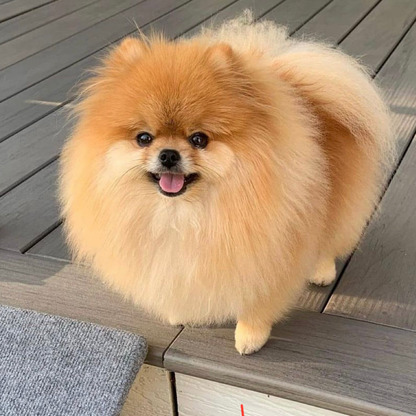Pomeranian: (63, 31, 397, 356)
